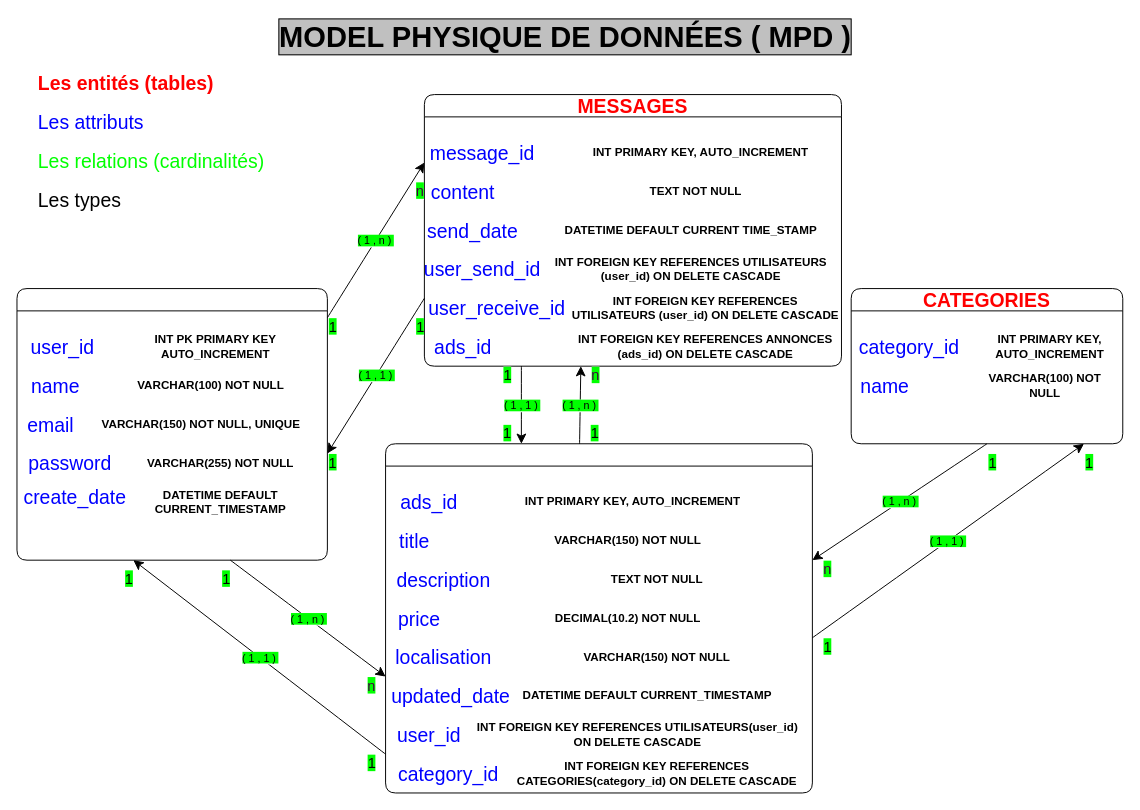
This 1140x810 diagram has some shape labels left out. The box of each missing label's shape, as (x1, y1, x2, y2) in pixels:
ANNONCES: (385, 443, 812, 793)
UTILISATEURS: (16, 288, 327, 560)
